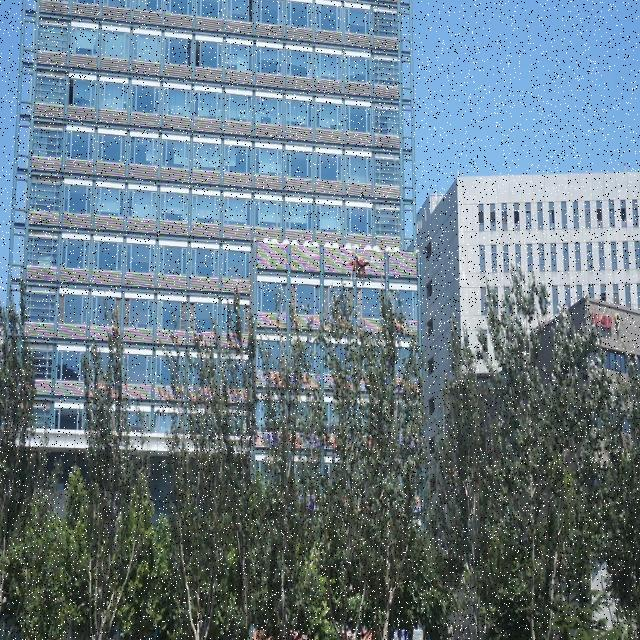UAV: (348, 250, 373, 286)
